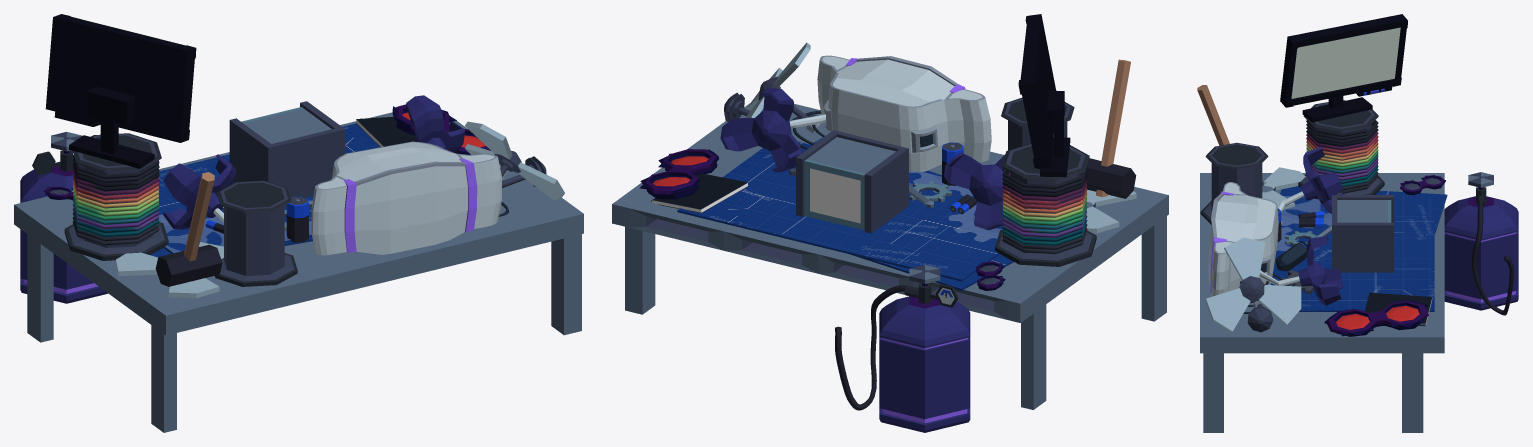
File: Test_WeldDesk.fbx
3 views of the same model, side by side, from view 1: azimuth 30°, elevation 25°; view 2: azimuth 150°, elevation 25°; view 3: azimuth 270°, elevation 25° (orthographic). The views are drawn at different scales.
Parts seen in each view (by area): view 1: Cube.478; view 2: Cube.478, Catenary.002; view 3: Cube.478, Catenary.002.
Boxes of the visible parts, x1,y1,x2,y2 form: Cube.478: (14,14,583,432); Cube.478: (612,14,1168,432); Catenary.002: (835,285,911,410); Cube.478: (1197,14,1518,432); Catenary.002: (1471,198,1513,315).
Size of the model in its own units: 291 by 210 by 233.
